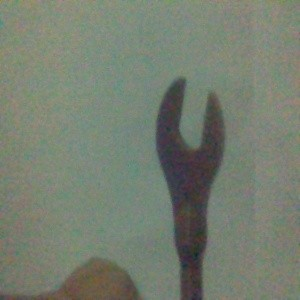spanner: (155, 75, 227, 300)
